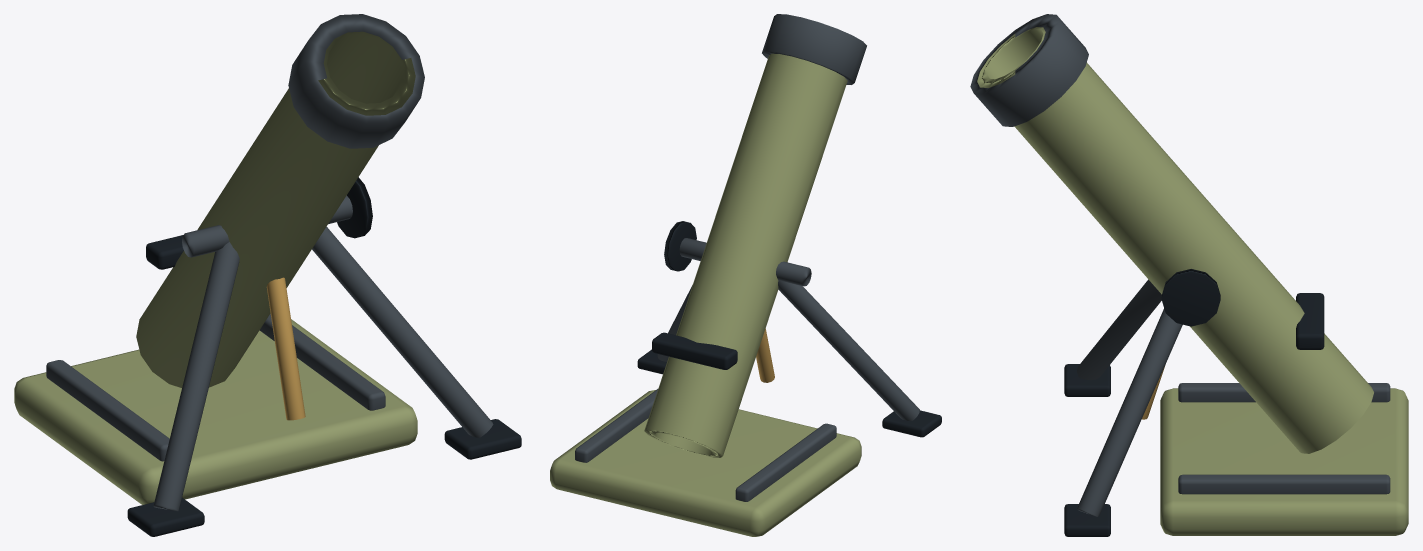
File: mortar.glb
3 renders of one model, left to right at view 1: azimuth 30°, elevation 25°; view 2: azimuth 150°, elevation 25°; view 3: azimuth 270°, elevation 25°, orthographic. The views are drawn at different scales.
Parts seen in each view (by area): view 1: mortar_mortar painted furniture, mortar_Cerakote graphite, mortar_Recesses and rubber, mortar_Warm brass details; view 2: mortar_mortar painted furniture, mortar_Cerakote graphite, mortar_Recesses and rubber, mortar_Warm brass details; view 3: mortar_mortar painted furniture, mortar_Cerakote graphite, mortar_Recesses and rubber.
Part boxes in pixels (x1,y1,x2,y2): mortar_mortar painted furniture: [14, 31, 417, 504]; mortar_Cerakote graphite: [46, 14, 493, 511]; mortar_Recesses and rubber: [127, 177, 521, 536]; mortar_Warm brass details: [266, 277, 305, 420]; mortar_mortar painted furniture: [550, 53, 861, 536]; mortar_Cerakote graphite: [575, 14, 919, 501]; mortar_Recesses and rubber: [637, 221, 941, 437]; mortar_Warm brass details: [756, 328, 774, 382]; mortar_mortar painted furniture: [977, 27, 1408, 535]; mortar_Cerakote graphite: [970, 14, 1390, 516]; mortar_Recesses and rubber: [1064, 269, 1324, 536].
Size of the model in its own units: 0.525 by 0.6838 by 0.5927.
